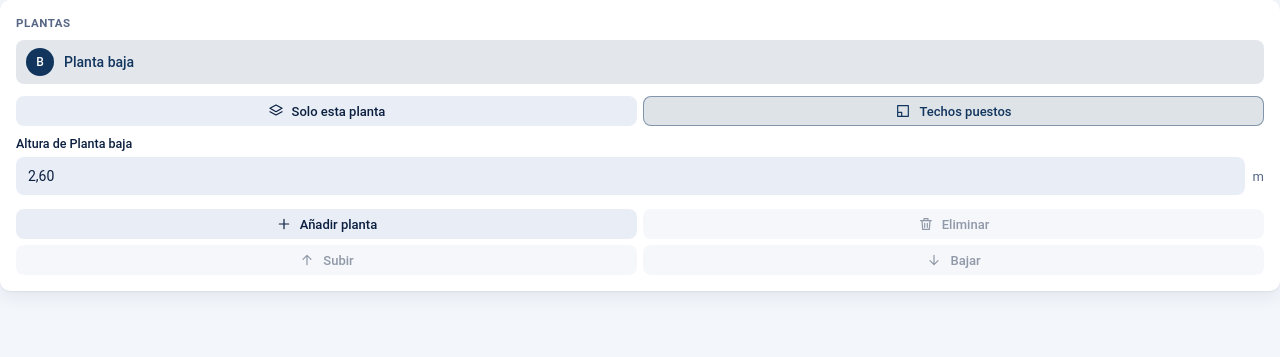
Scenario: Añadir planta adds and activates Planta 1
Click the button "Añadir planta". click: (326, 224)
box: [16,209,637,239]
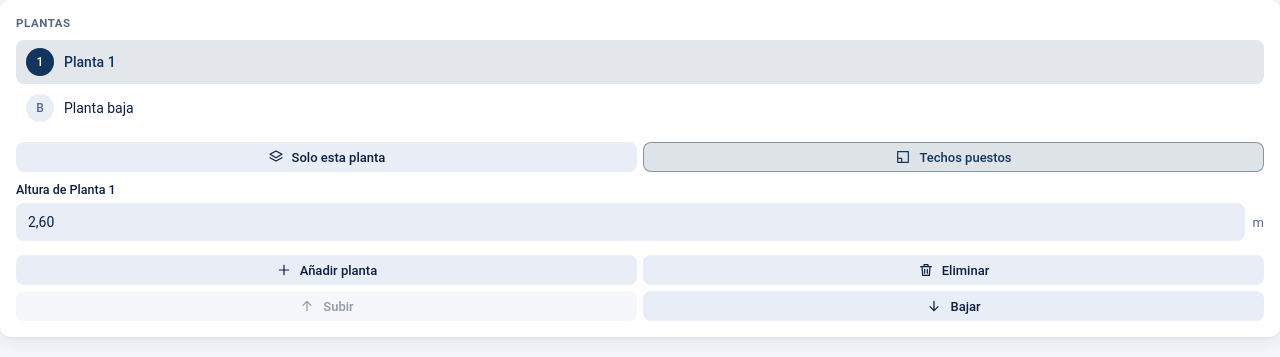
Expected: the text "Planta 1" is shown, [64,54,116,70]
